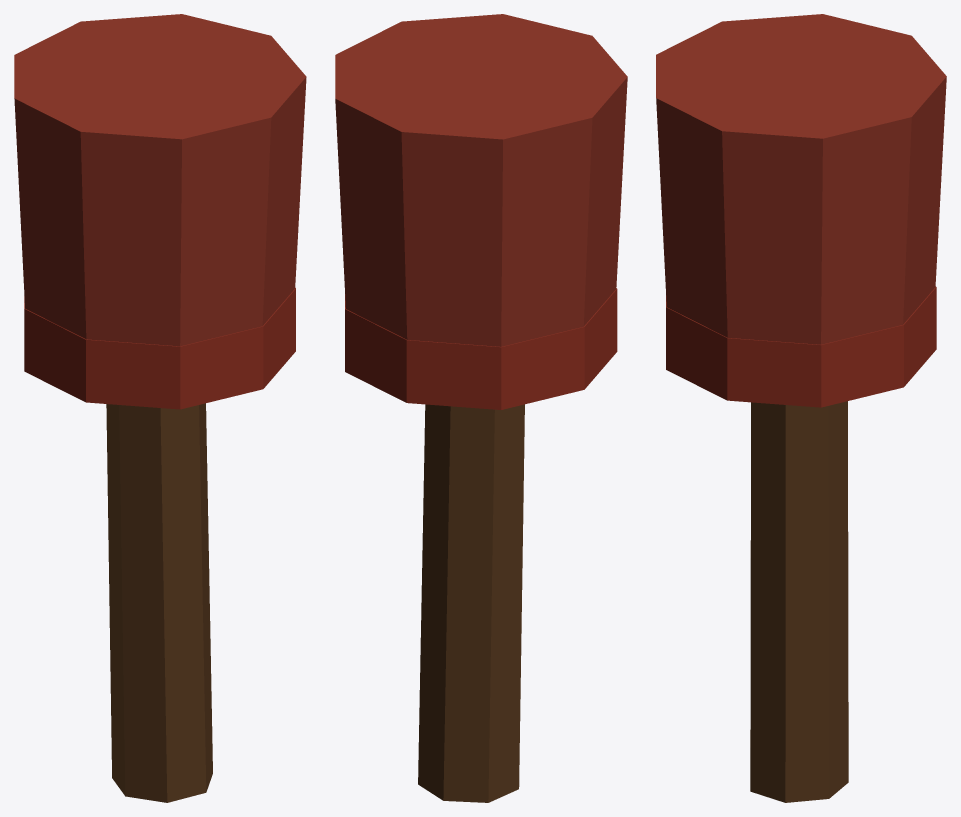
Rendered from leg_r.obj.
3 renders of one model, left to right at view 1: azimuth 30°, elevation 25°; view 2: azimuth 150°, elevation 25°; view 3: azimuth 270°, elevation 25°, orthographic.
Parts seen in each view (by area): view 1: Shorts_R, Upper_wooden_shin_R, Rolled_shorts_hem_R; view 2: Shorts_R, Upper_wooden_shin_R, Rolled_shorts_hem_R; view 3: Shorts_R, Upper_wooden_shin_R, Rolled_shorts_hem_R.
Part boxes in pixels (<box>): Shorts_R: <box>14,14,306,346</box>; Upper_wooden_shin_R: <box>106,403,212,802</box>; Rolled_shorts_hem_R: <box>24,288,295,409</box>; Shorts_R: <box>335,14,627,346</box>; Upper_wooden_shin_R: <box>418,404,524,802</box>; Rolled_shorts_hem_R: <box>345,288,617,409</box>; Shorts_R: <box>656,14,946,344</box>; Upper_wooden_shin_R: <box>750,401,848,802</box>; Rolled_shorts_hem_R: <box>666,286,936,407</box>.
Size of the model in its own units: 0.3427 by 0.901 by 0.3375.
